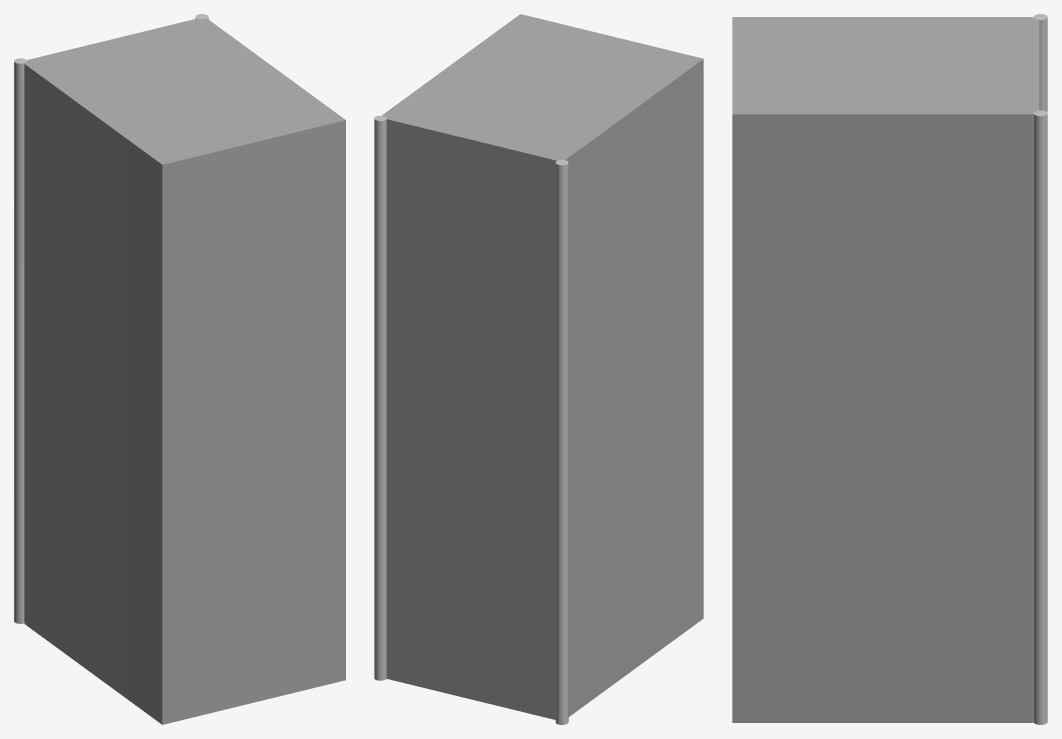
File: SM_Building03_Deco01R.fbx
3 renders of one model, left to right at view 1: azimuth 30°, elevation 25°; view 2: azimuth 150°, elevation 25°; view 3: azimuth 270°, elevation 25°, orthographic. The views are drawn at different scales.
Visible parts, largest first — view 1: SM_Building03_Deco01R_LOD0; view 2: SM_Building03_Deco01R_LOD0; view 3: SM_Building03_Deco01R_LOD0.
Part boxes in pixels (x1=…): SM_Building03_Deco01R_LOD0: x1=14, y1=14, x2=345, y2=724; SM_Building03_Deco01R_LOD0: x1=374, y1=14, x2=703, y2=724; SM_Building03_Deco01R_LOD0: x1=732, y1=14, x2=1047, y2=724.
Size of the model in its own units: 126 by 164 by 350.
2 materials, 1 textured.
